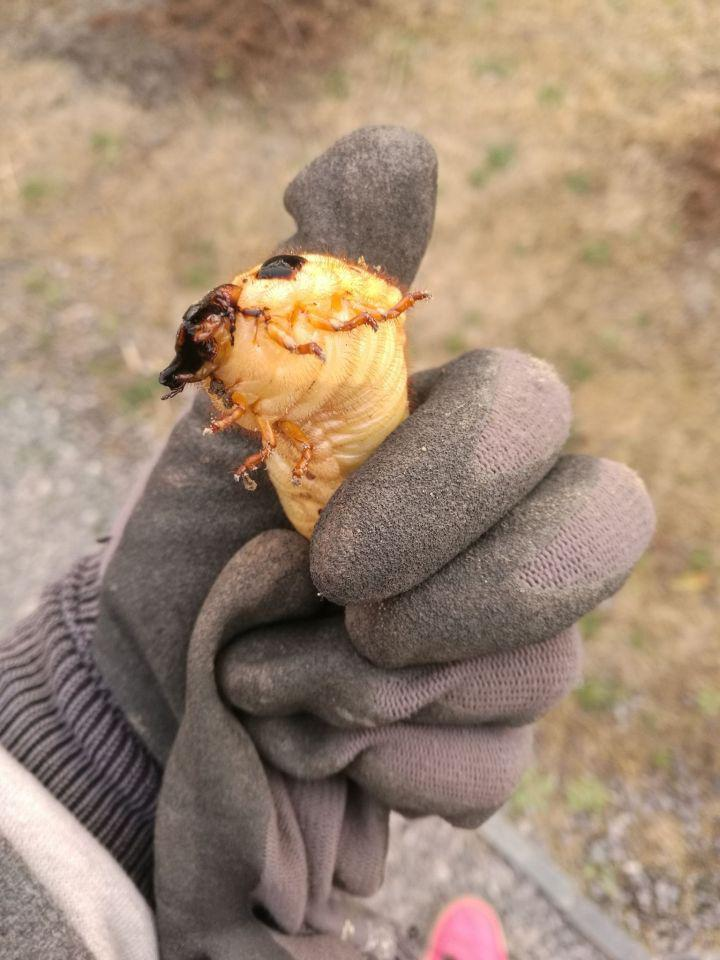grub: (155, 246, 408, 476)
